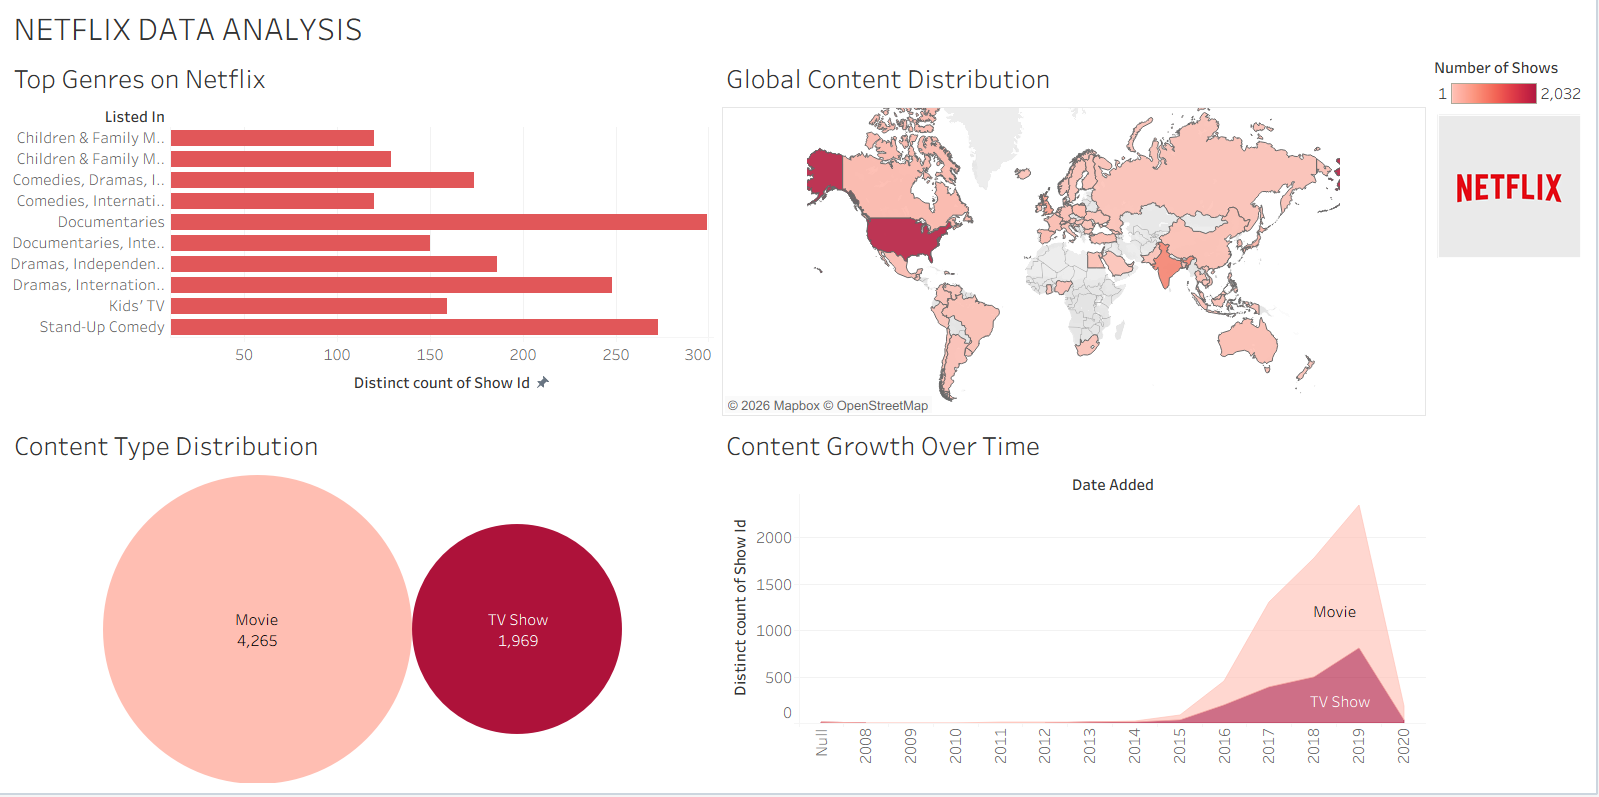

What the dashboard file says about the page in this screenshot:
{"tool":"tableau","page":{"name":"Dashboard 1","canvas":[1600,800],"ordinal":0},"visuals":[{"type":"title","box":[8,8,1584,50]},{"type":"worksheet","title":"Sheet 4","mark":"Automatic","rows":["listed_in"],"cols":["show_id"],"box":[8,58,712,367]},{"type":"worksheet","title":"Sheet 3","mark":"Multipolygon","box":[720,58,712,367]},{"type":"legend","title":"Sheet 3","param":"[federated.0g3li381fpry5y1b7hebm1fhivsj].[ctd:show_id:qk]","box":[1432,58,160,73]},{"type":"image","param":"Image/WhatsAppImage.jpeg","box":[1430,119,163,144]},{"type":"worksheet","title":"Sheet 2","mark":"Circle","box":[8,425,711.9,367]},{"type":"worksheet","title":"Sheet 1","mark":"Area","rows":["show_id"],"cols":["date_added"],"box":[719.9,425,712.1,367]}]}

Visuals, with their boxes in screenshot pixels (x1, y1, x2, y2), scaled from the page's 1600x800 canvas onto the 1599x797 screenshot:
title: <region>8, 8, 1591, 58</region>
"Sheet 4" worksheet: <region>8, 58, 720, 423</region>
"Sheet 3" worksheet (Multipolygon marks): <region>720, 58, 1431, 423</region>
"Sheet 3" legend: <region>1431, 58, 1591, 131</region>
image: <region>1429, 119, 1592, 262</region>
"Sheet 2" worksheet (Circle marks): <region>8, 423, 719, 789</region>
"Sheet 1" worksheet (Area marks): <region>719, 423, 1431, 789</region>
